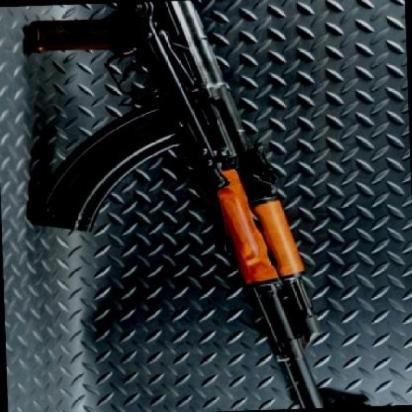Gun: (22, 0, 364, 412)
